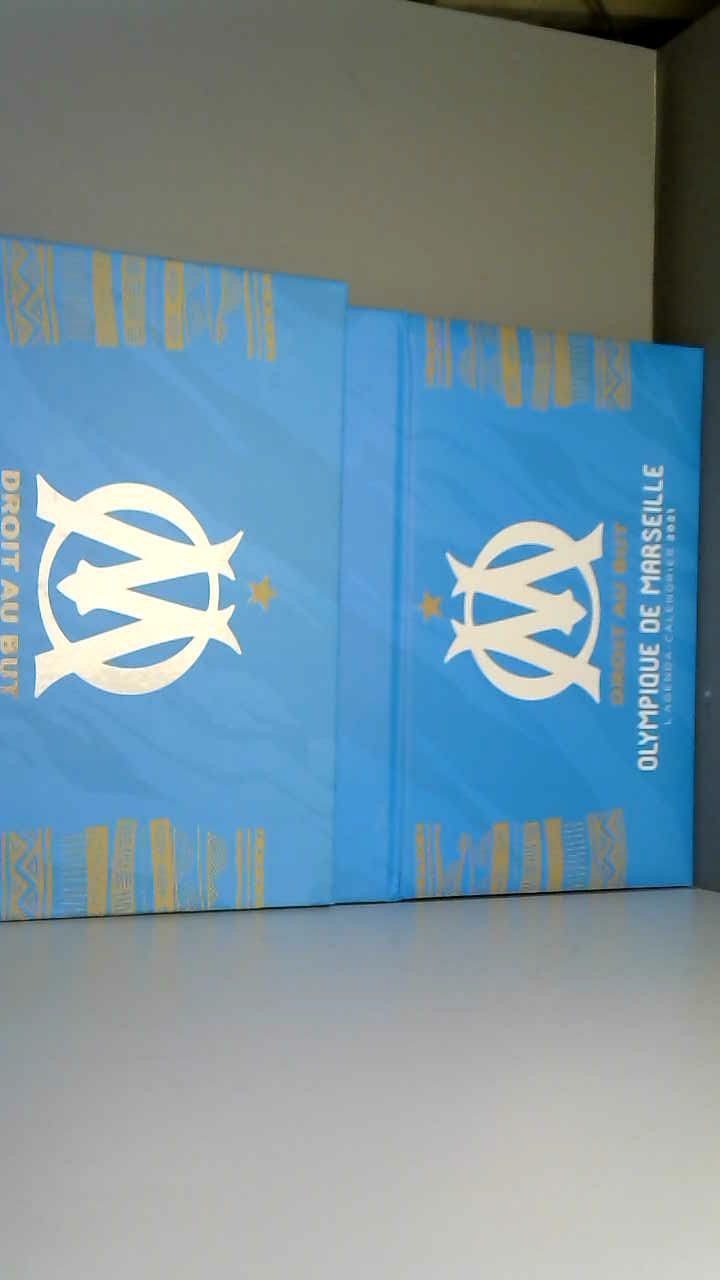book: (0, 216, 720, 945)
